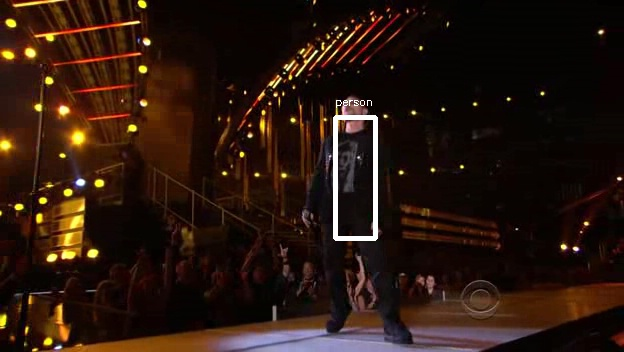person: (311, 96, 381, 240), (308, 96, 378, 240), (314, 96, 384, 240), (311, 93, 381, 237), (311, 99, 381, 243)
target_negative: (271, 30, 603, 194), (292, 134, 493, 274), (316, 264, 607, 307), (411, 160, 494, 298), (417, 142, 466, 332), (583, 214, 601, 310)
